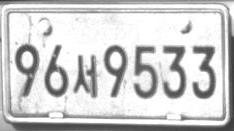3: (162, 44, 187, 99), (191, 45, 216, 99)
5: (133, 45, 158, 99)
6: (43, 44, 69, 97)
9: (14, 42, 40, 96), (103, 44, 127, 98)
서: (73, 54, 97, 98)
